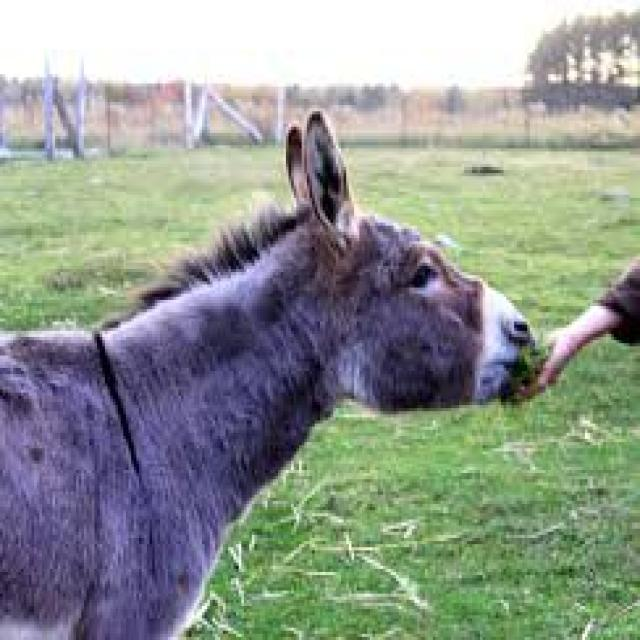Donkey: (0, 102, 559, 640)
